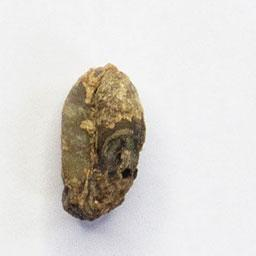defect: (57, 59, 150, 224)
